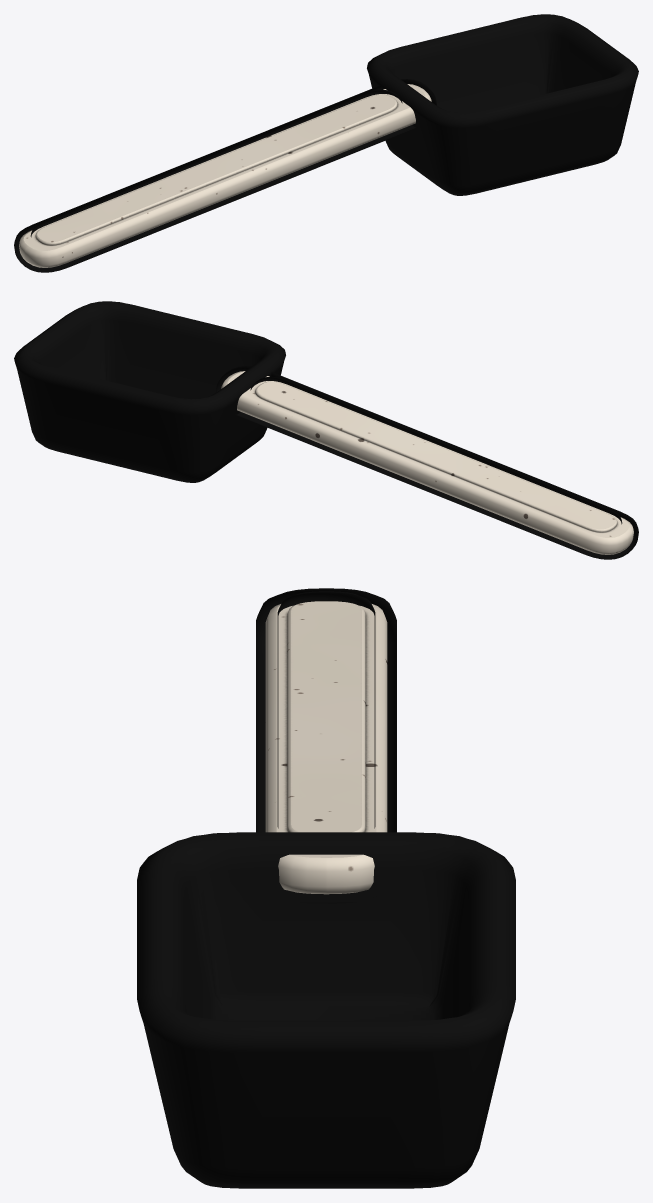
Rendered from Scoop_Empty.fbx.
The picture shows the model from 3 angles, top to bottom: view 1: azimuth 30°, elevation 25°; view 2: azimuth 150°, elevation 25°; view 3: azimuth 270°, elevation 25°; orthographic projection. The views are drawn at different scales.
Parts seen in each view (by area): view 1: Scoop_Empty; view 2: Scoop_Empty; view 3: Scoop_Empty.
Boxes of the visible parts, x1=… form: Scoop_Empty: x1=14, y1=14, x2=638, y2=272; Scoop_Empty: x1=14, y1=301, x2=638, y2=559; Scoop_Empty: x1=137, y1=588, x2=515, y2=1188.
Size of the model in its own units: 0.1508 by 0.0225 by 0.0421.
Materials: 1 (1 with a texture image).
